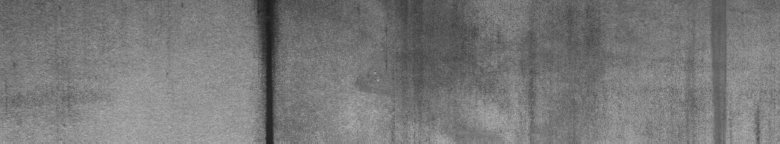hd: (252, 10, 283, 136)
